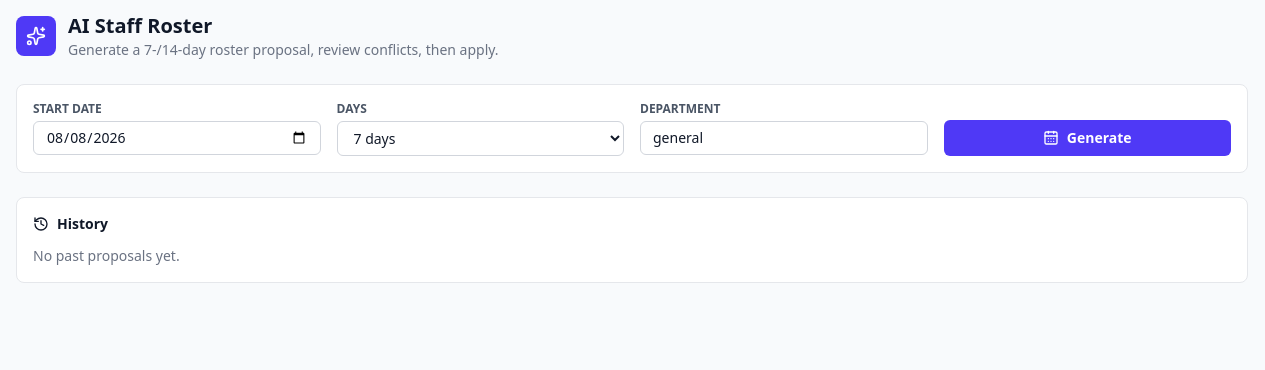
Test: AI Staff Roster dashboard page › renders the error banner with the thrown Error message when propose rejects
Click the button "Generate". click: {"x": 1087, "y": 138}
box: left=944, top=120, right=1231, bottom=156
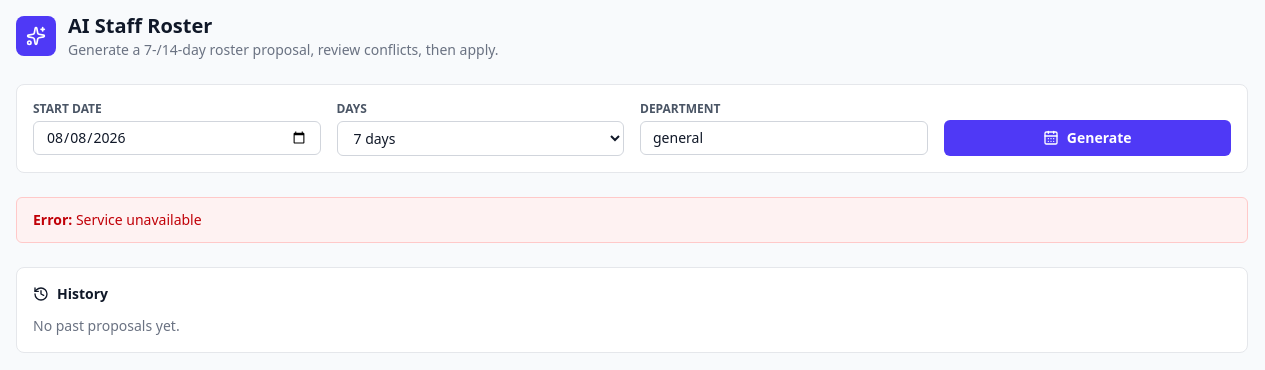
Check: the text "Error: Service unavailable" is shown, box left=16, top=197, right=1248, bottom=243
